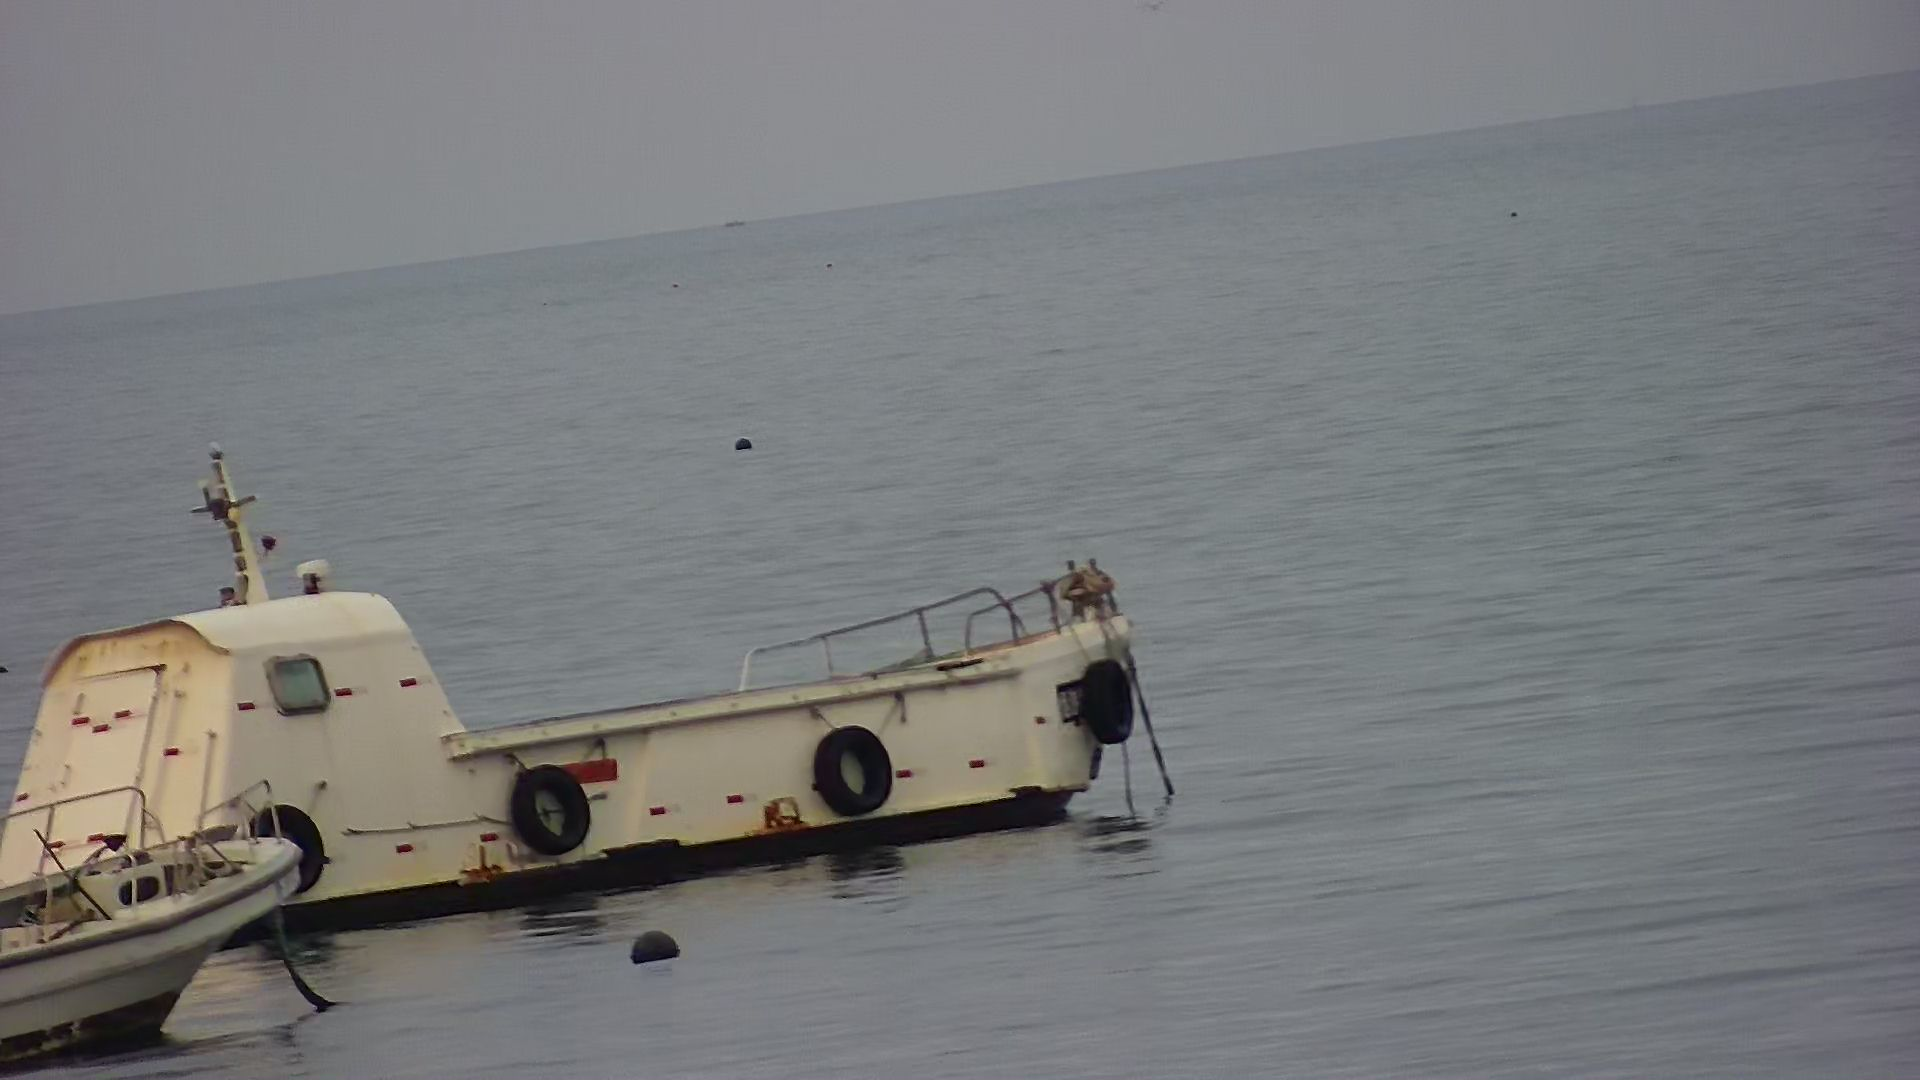ball: (629, 919, 686, 972)
boat: (16, 465, 1184, 1002)
